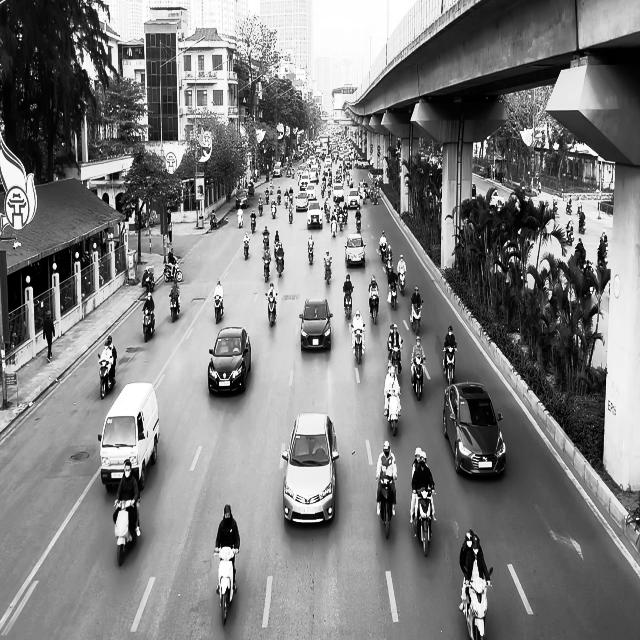car: (281, 412, 339, 524), (443, 381, 506, 477), (208, 327, 251, 395), (298, 298, 332, 352), (344, 232, 366, 268)
motorbike: (461, 568, 493, 639), (113, 497, 141, 567), (214, 546, 238, 626), (412, 486, 435, 556), (377, 474, 396, 538), (97, 353, 116, 399), (384, 388, 401, 436), (410, 357, 426, 400), (442, 344, 458, 385), (351, 323, 365, 364), (164, 257, 182, 282), (410, 300, 423, 334), (142, 308, 155, 342), (389, 343, 402, 375), (266, 292, 277, 327), (142, 266, 155, 293), (169, 292, 180, 322), (369, 292, 379, 324), (343, 287, 353, 319), (387, 279, 397, 309), (214, 294, 223, 323), (262, 254, 271, 282), (323, 258, 332, 284), (276, 250, 284, 276), (565, 223, 574, 246), (243, 237, 250, 260), (308, 243, 314, 264), (250, 214, 256, 233)
